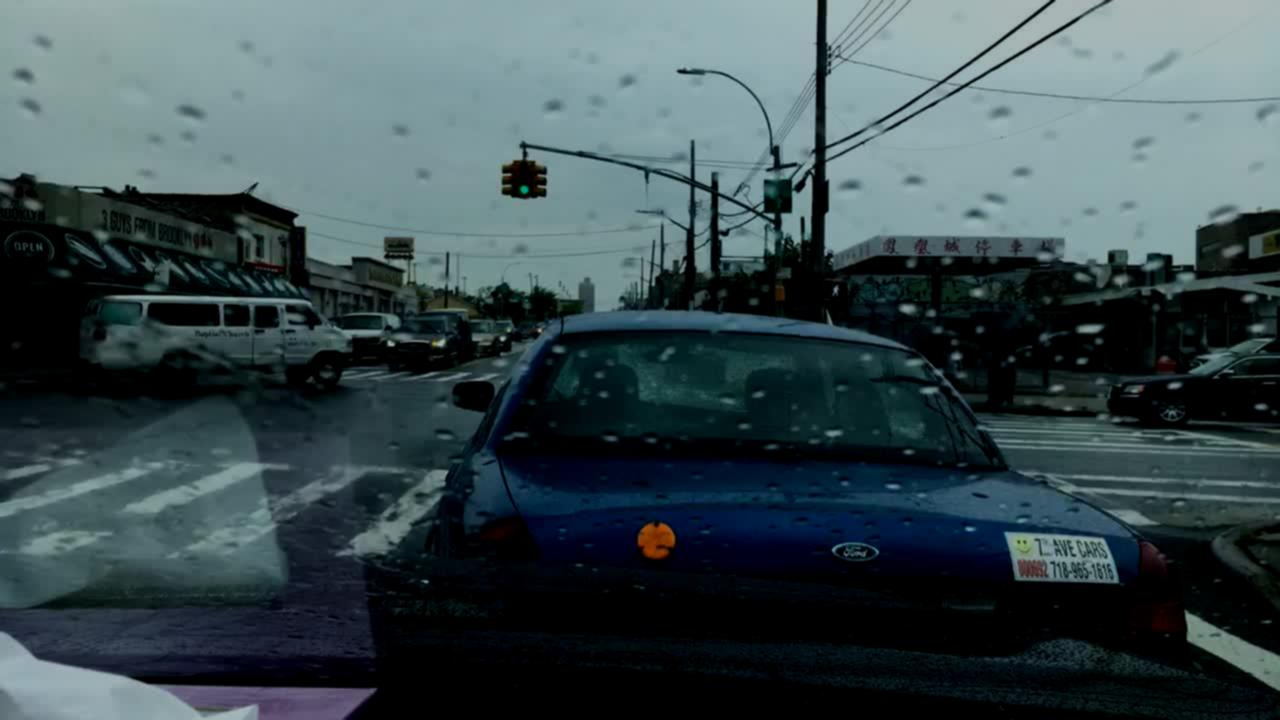ford: (813, 528, 900, 579)
